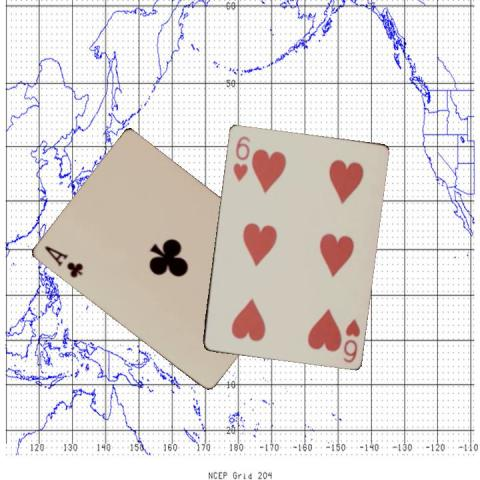6h: (230, 132, 252, 182), (340, 315, 362, 364)
Ac: (41, 243, 84, 279)
